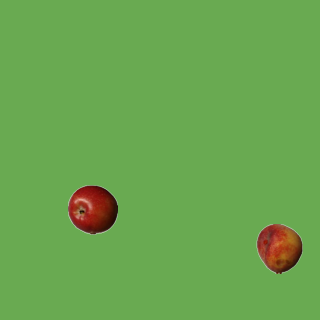Apple Braeburn: (67, 184, 117, 234)
Peach: (254, 223, 304, 273)
